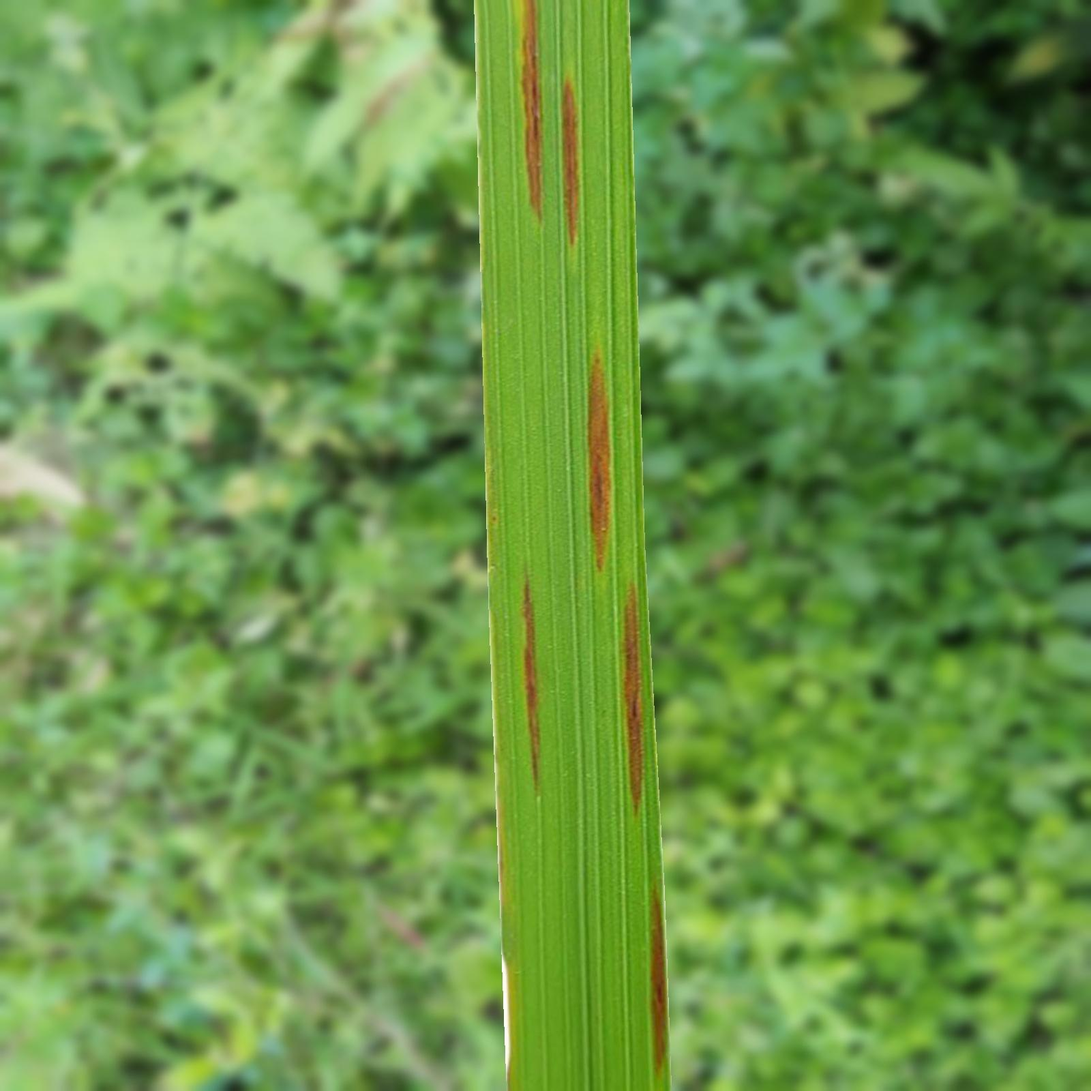LEAF: (474, 0, 671, 1090)
NBS: (588, 350, 611, 570), (522, 0, 543, 220), (624, 585, 644, 810), (523, 578, 540, 791), (651, 891, 666, 1075), (563, 78, 578, 244)
